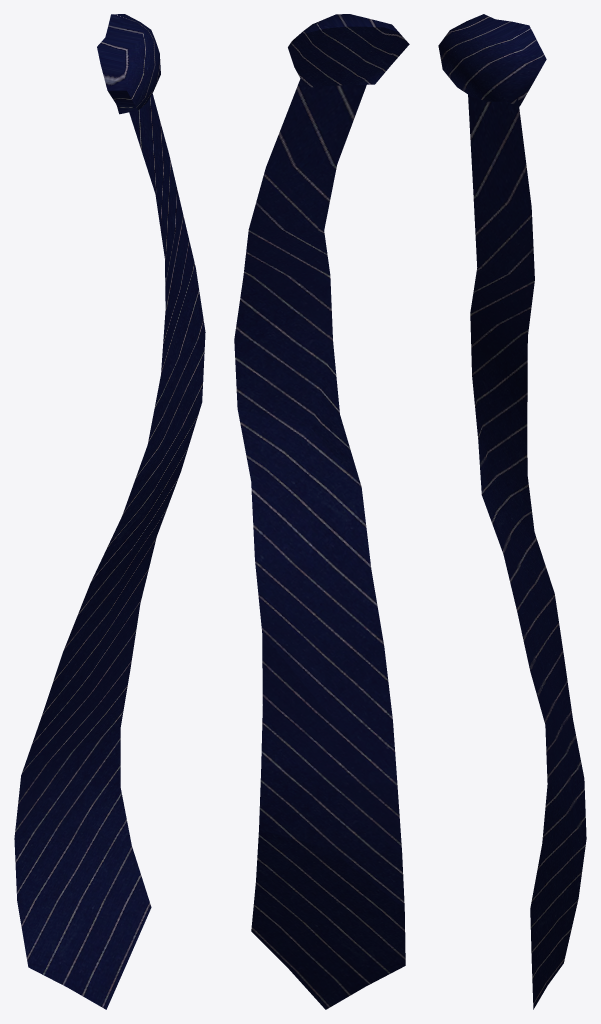
File: Pose-10_Tie-4.fbx
The picture shows the model from 3 angles, left to right: view 1: azimuth 30°, elevation 25°; view 2: azimuth 150°, elevation 25°; view 3: azimuth 270°, elevation 25°; orthographic projection.
Parts seen in each view (by area): view 1: Pose-10_Tie-4; view 2: Pose-10_Tie-4; view 3: Pose-10_Tie-4.
Part boxes in pixels (<box>): Pose-10_Tie-4: <box>14,14,205,1009</box>; Pose-10_Tie-4: <box>234,14,409,1009</box>; Pose-10_Tie-4: <box>438,14,586,1009</box>.
Size of the model in its own units: 8.83 by 46.45 by 6.33.
